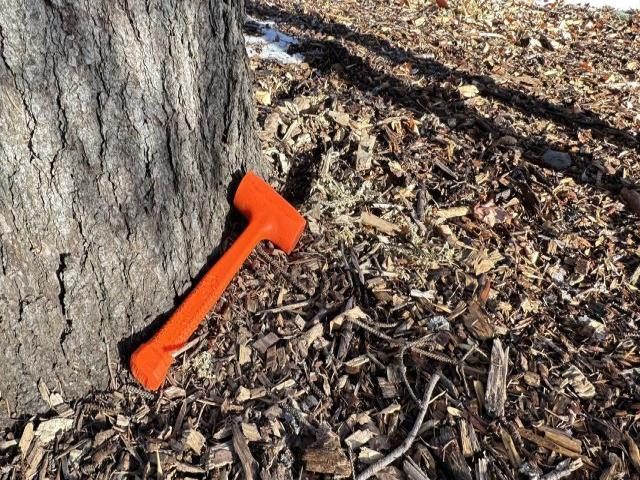hammer: (128, 168, 304, 390)
